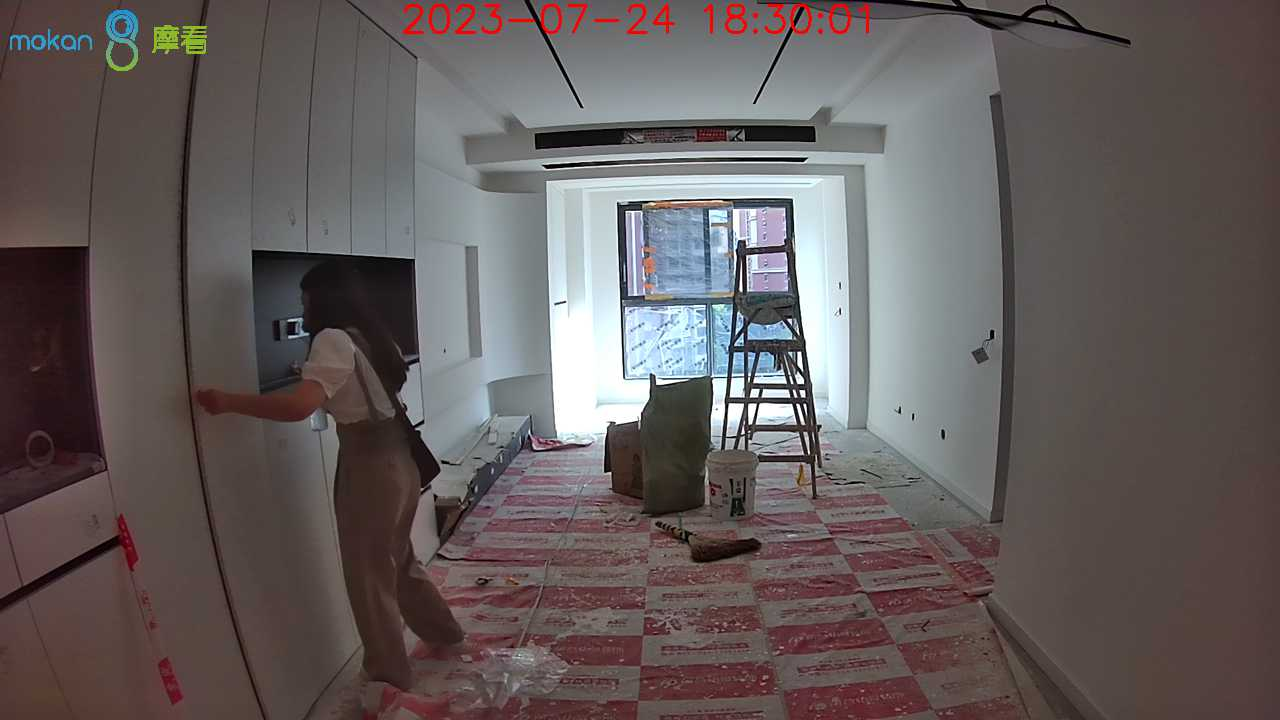people: (202, 267, 470, 683)
window: (617, 202, 792, 372)
